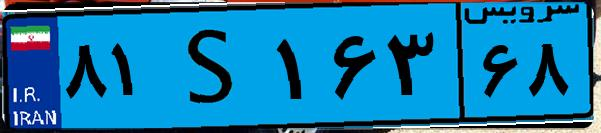1: (270, 28, 330, 110), (110, 28, 158, 98)
3: (385, 28, 445, 110)
6: (330, 28, 385, 110), (475, 38, 525, 113)
8: (57, 26, 110, 100), (525, 38, 570, 115)
S: (158, 12, 270, 120)
